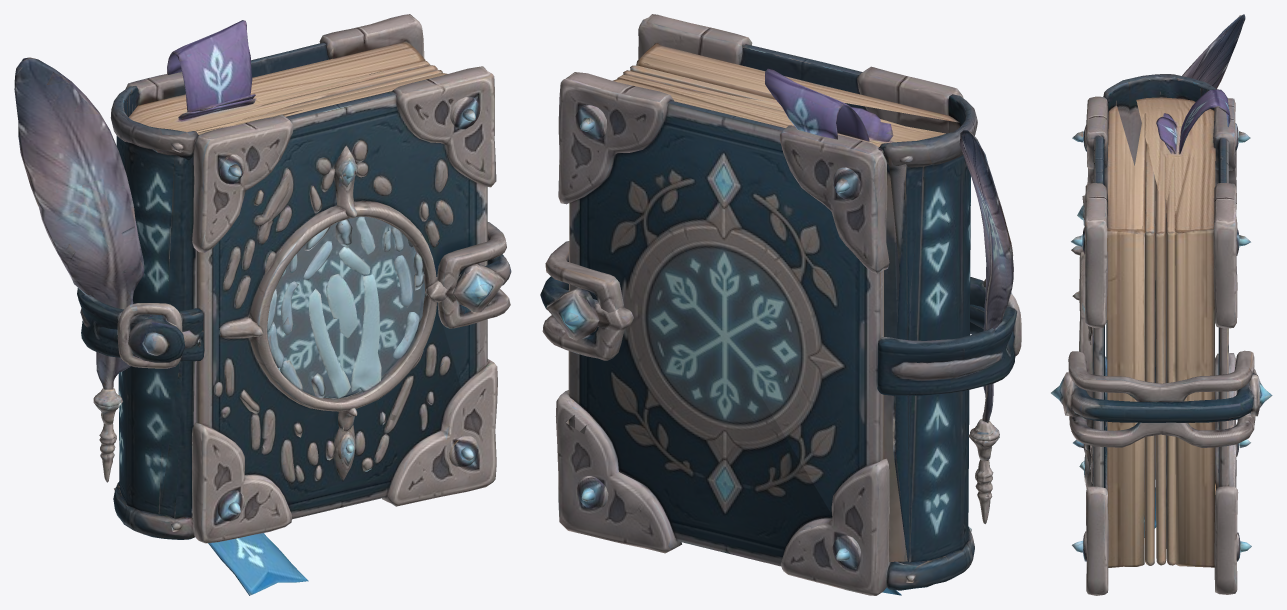
File: grimorio_2.glb
The picture shows the model from 3 angles, left to right: view 1: azimuth 30°, elevation 25°; view 2: azimuth 150°, elevation 25°; view 3: azimuth 270°, elevation 25°; orthographic projection. The views are drawn at different scales.
Visible parts, largest first — view 1: grimorio_2; view 2: grimorio_2; view 3: grimorio_2.
Boxes of the visible parts, x1=… form: grimorio_2: x1=14, y1=14, x2=511, y2=595; grimorio_2: x1=540, y1=14, x2=1021, y2=595; grimorio_2: x1=1051, y1=14, x2=1272, y2=595.
Bounding box in the file's own units: 0.2917 × 0.34 × 0.1467.
Materials: 1 (1 with a texture image).
